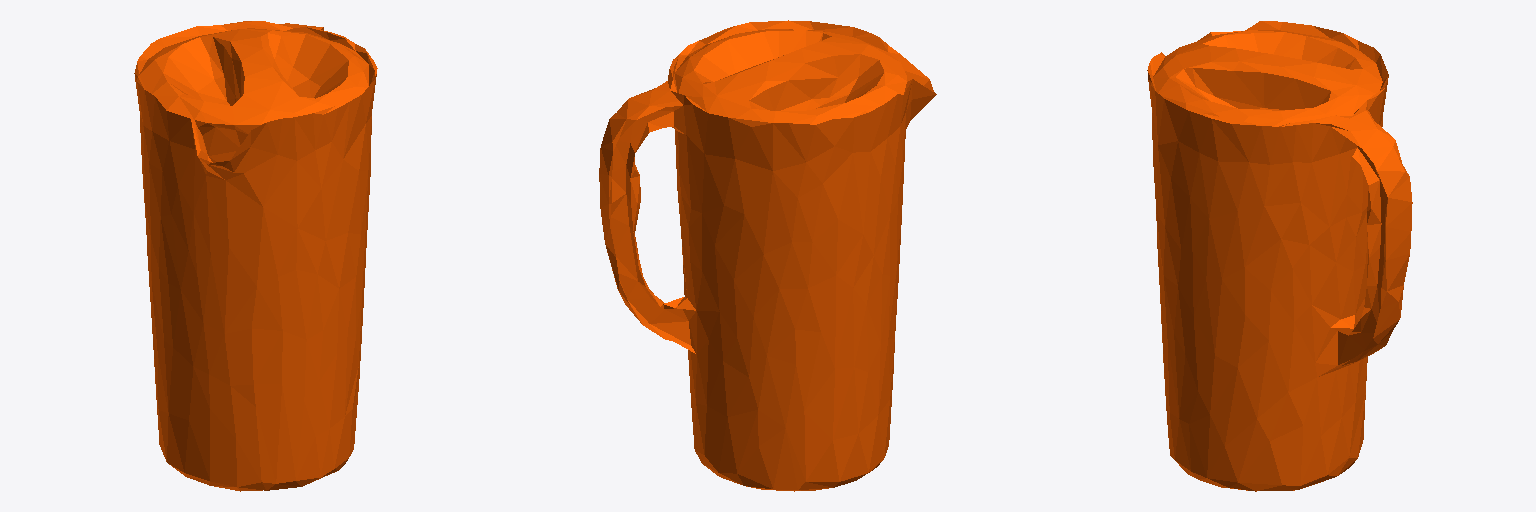
The robot description file, URDF, robot "019_pitcher_base":
<?xml version="1.0" ?>
<robot name="019_pitcher_base">
   <material name="obj_color">
      <color rgba="1.0 0.423529411765 0.0392156862745 1.0"/>
   </material>
   <link name="top">
      <inertial>
         <origin rpy="0.0004552066095131174 0.001292406040799777 0.00130576090513273" xyz="-0.01302757318782546 -0.01289531088882256 -0.02141820619539146"/>
         <mass value="0.24875"/>
         <inertia ixx="0.001298278964523549" ixy="-6.698460761367739e-06" ixz="-5.486663383000228e-06" iyy="0.001299733777858772" iyz="-9.959774216394034e-06" izz="0.000455360813063304"/>
      </inertial>
      <visual>
         <origin rpy="0 0 0" xyz="0 0 0"/>
         <geometry>
            <mesh filename="top_watertight_tiny.stl" scale="1 1 1"/>
         </geometry>
         <material name="obj_color"/>
      </visual>
      <collision>
         <origin rpy="0 0 0" xyz="0 0 0"/>
         <geometry>
            <mesh filename="top_watertight_tiny.obj" scale="1 1 1"/>
         </geometry>
      </collision>
   </link>
   <link name="bottom">
      <inertial>
         <origin rpy="1.633333333199431e-08 1.633333333199431e-08 1.633333333362855e-08" xyz="0.3464080000000008 0.3464080000000008 0.3464080000000008"/>
         <mass value="0.0009800000000000017"/>
         <inertia ixx="1.633333333253906e-08" ixy="5.447480642029219e-19" ixz="5.447480642029219e-19" iyy="1.633333333253906e-08" iyz="5.447480642029219e-19" izz="1.633333333253906e-08"/>
      </inertial>
      <visual>
         <origin rpy="0 0 0" xyz="0 0 0"/>
         <geometry>
            <mesh filename="bottom_watertight_tiny.stl" scale="1 1 1"/>
         </geometry>
         <material name="obj_color"/>
      </visual>
   </link>
   <joint name="rotation" type="revolute">
      <origin xyz="0 0 0"/>
      <axis xyz="0 0 -1"/>
      <parent link="bottom"/>
      <child link="top"/>
      <dynamics damping="1.0" friction="1.0"/>
      <limit effort="0.1" velocity="0.1" lower="0" upper="0.001"/>
   </joint>
</robot>

--- What the picture shows (computed from the rendered views, not written in the file) ---
3 views of the same robot in one strip: view 1: azimuth 30°, elevation 25°; view 2: azimuth 150°, elevation 25°; view 3: azimuth 270°, elevation 25° (orthographic).
Model 019_pitcher_base with 2 links and 1 joints (1 revolute), rooted at bottom, posed all joints at 0.
Visible links, largest first — view 1: top; view 2: top; view 3: top.
Link boxes in pixels (x1,y1,x2,y2): top: (134,21,377,491); top: (599,20,936,491); top: (1147,21,1412,491).
Bounding box of the posed robot: 0.1493 × 0.1456 × 0.2422 m (x, y, z).
1 mesh visuals loaded from 2 distinct referenced files (1 binary STL); not drawn: 1 (reference not matched to a file when rendering).